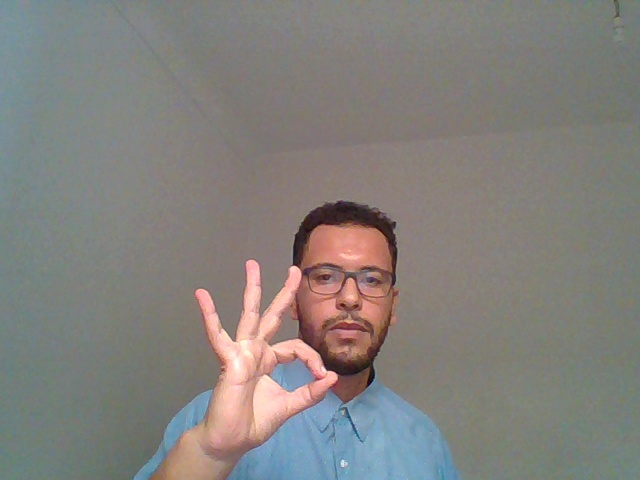okay: (175, 235, 337, 469)
